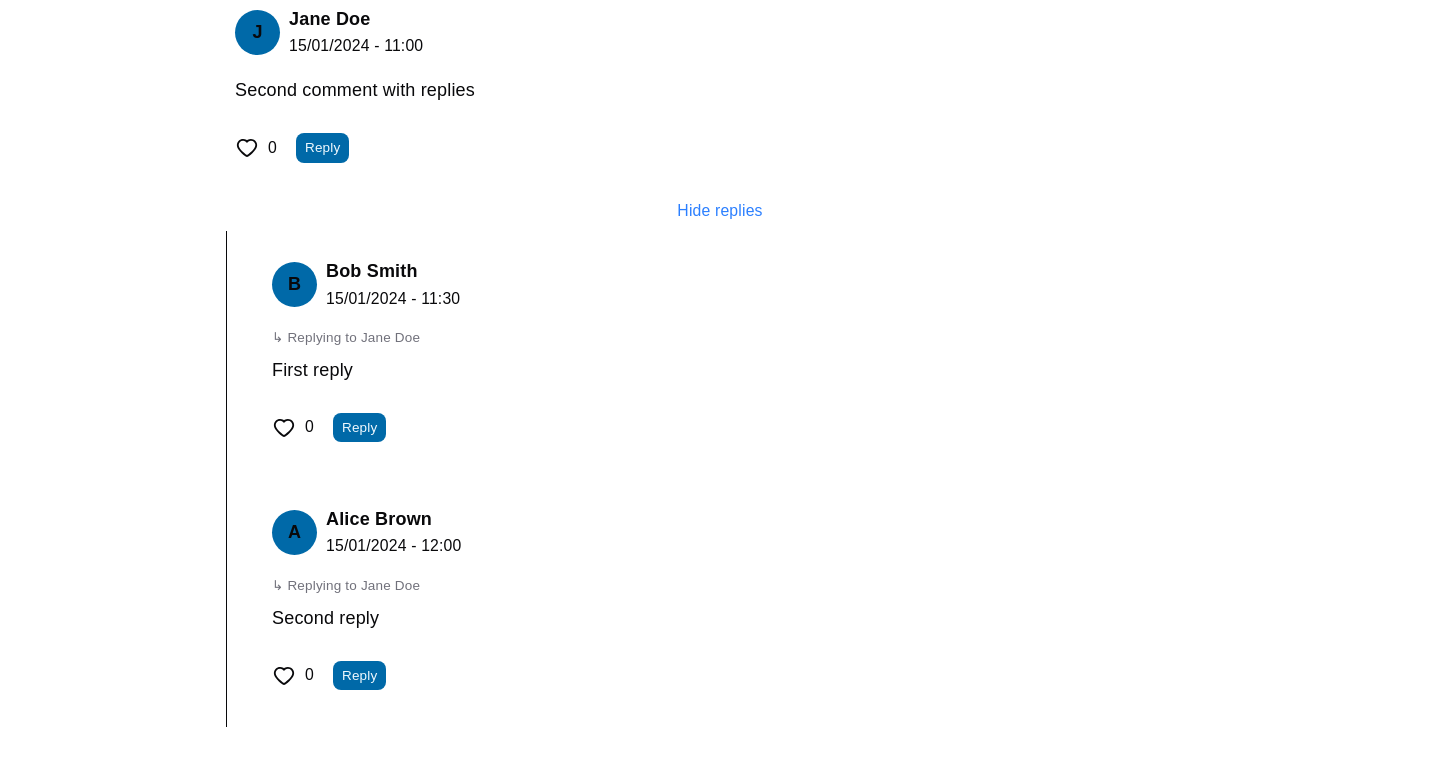
Test: CommentTree › multiple comments with replies › should hide/show replies independently for each comment
# Hide replies for comment-2 (first Hide replies button)
Click the button "Hide replies" at x=720, y=211, box left=208, top=200, right=1232, bottom=222
(page scrolled)
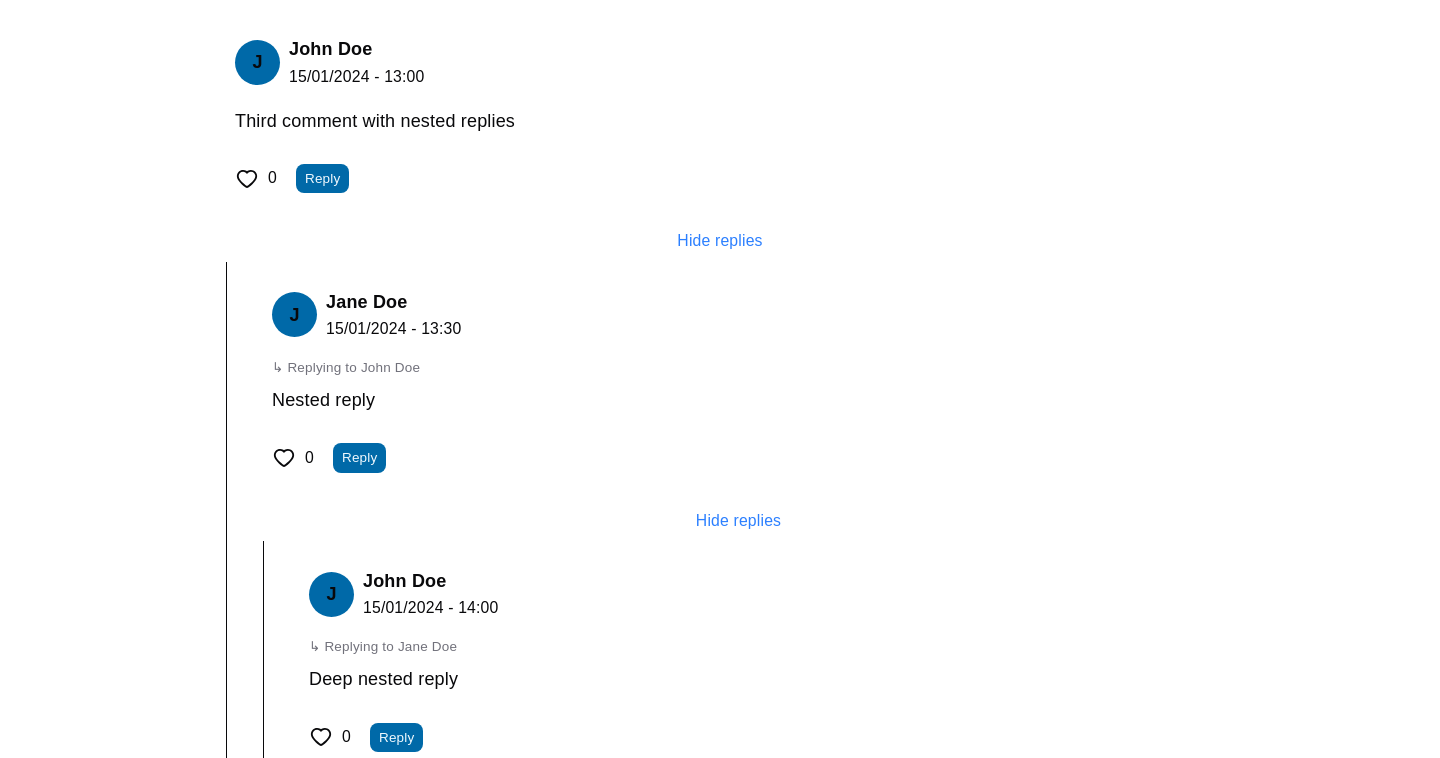
expect the text "Nested reply" is shown: met, box left=272, top=390, right=375, bottom=410
expect the text "First reply" is gone: met
expect the text "Second reply" is gone: met
